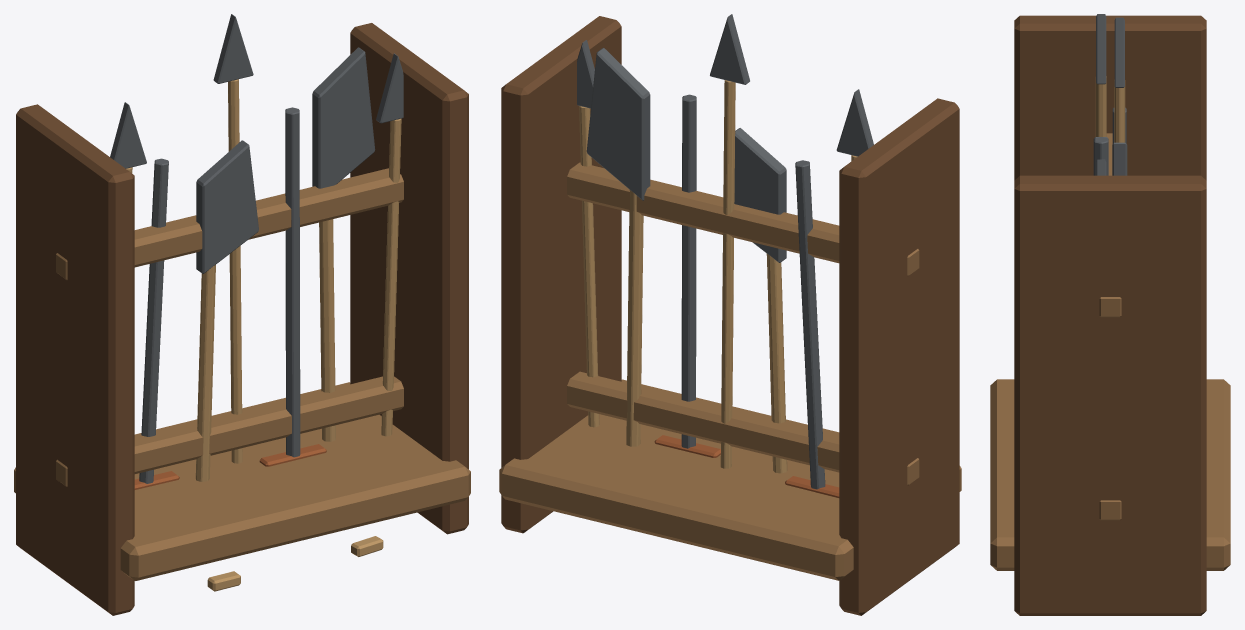
File: runtime.glb
3 renders of one model, left to right at view 1: azimuth 30°, elevation 25°; view 2: azimuth 150°, elevation 25°; view 3: azimuth 270°, elevation 25°, orthographic. The views are drawn at different scales.
Parts seen in each view (by area): view 1: falkenwacht-weapon-rack-v08_nocol; view 2: falkenwacht-weapon-rack-v08_nocol; view 3: falkenwacht-weapon-rack-v08_nocol.
Boxes of the visible parts, bbox=[...] form: falkenwacht-weapon-rack-v08_nocol: bbox=[14, 14, 470, 615]; falkenwacht-weapon-rack-v08_nocol: bbox=[499, 14, 961, 615]; falkenwacht-weapon-rack-v08_nocol: bbox=[990, 14, 1230, 615].
Size of the model in its own units: 1.78 by 2.44 by 1.04.
